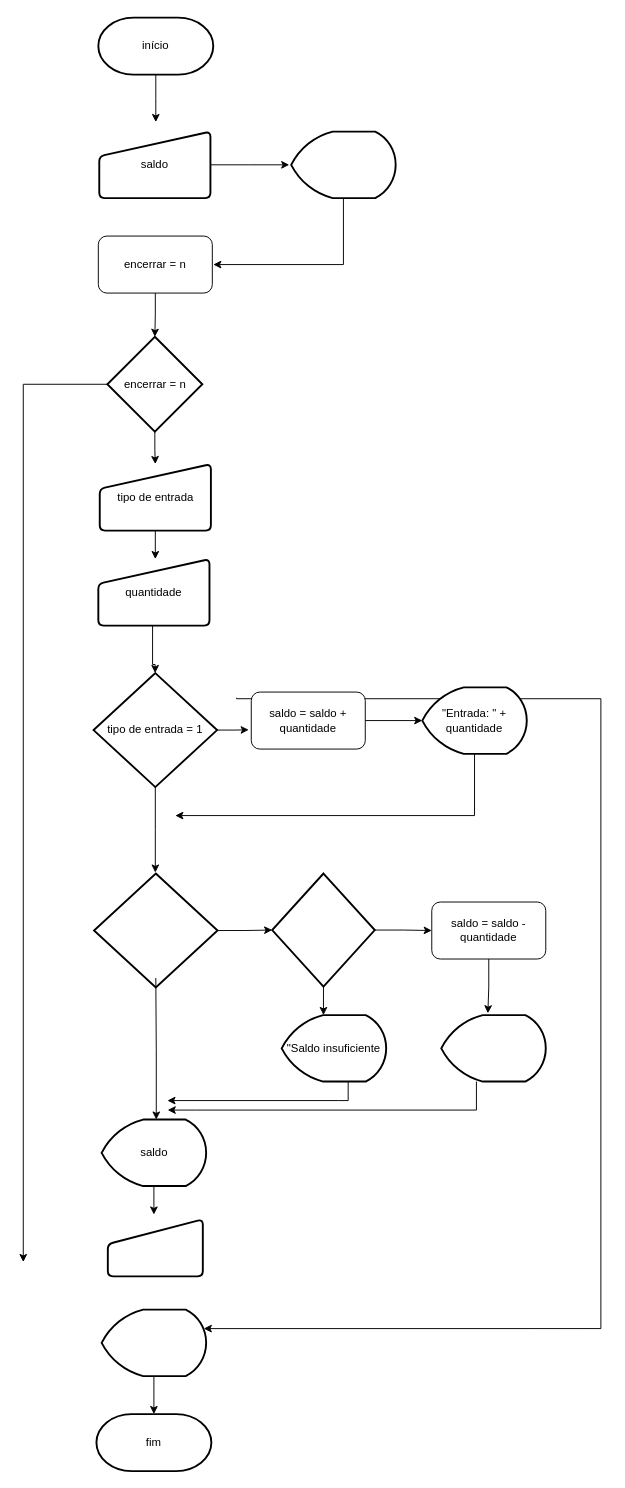
Some shapes in this 625 by 1488 pixel diagram are drawn without their labels. The centre of each missing label's shape, as x and y in pixels:
"Saída: " + quantidade: (493,1048)
"sistema encerrado: (153,1342)
encerra? (s/n): (154,1247)
saldo >= quantidade: (323,929)
saldo inicial: " + saldo: (343,164)
tipo de entrada = 2: (155,930)
